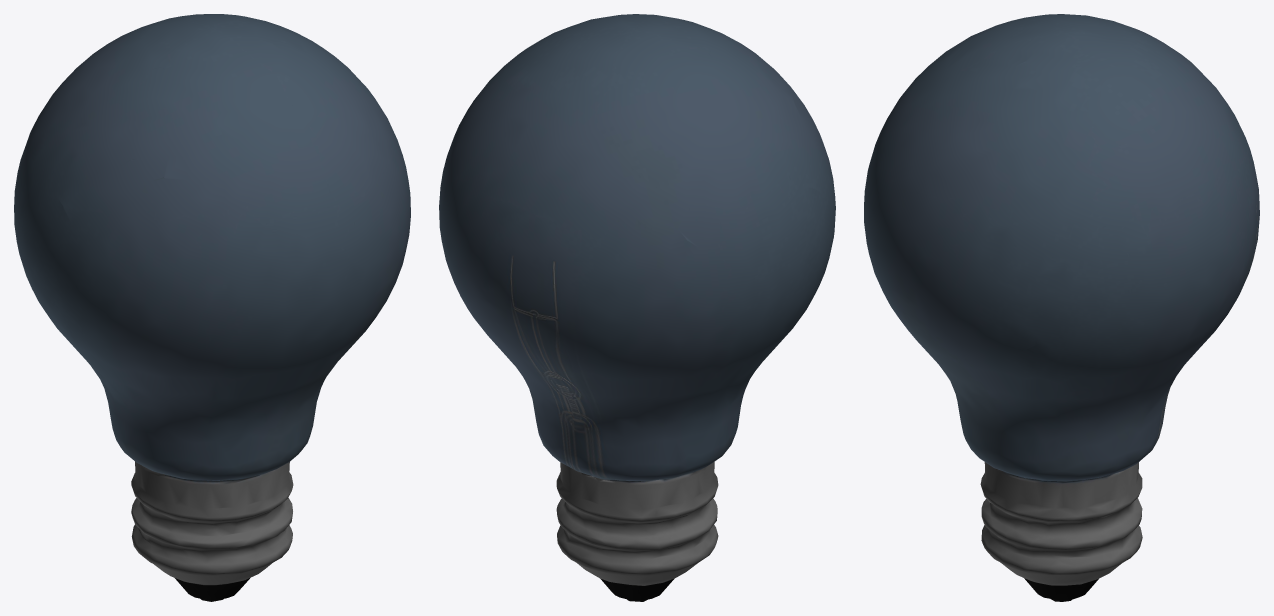
The model's file is stylized+light+bulb+3d+model.fbx.
3 renders of one model, left to right at view 1: azimuth 30°, elevation 25°; view 2: azimuth 150°, elevation 25°; view 3: azimuth 270°, elevation 25°, orthographic.
Parts seen in each view (by area): view 1: tripo_node_f2eb496f; view 2: tripo_node_f2eb496f; view 3: tripo_node_f2eb496f.
Boxes of the visible parts, x1,y1,x2,y2 form: tripo_node_f2eb496f: (14, 14, 410, 601); tripo_node_f2eb496f: (439, 14, 835, 601); tripo_node_f2eb496f: (864, 14, 1259, 601).
Bounding box in the file's own units: 0.6357 × 0.9999 × 0.6349.
1 material, 1 textured.
